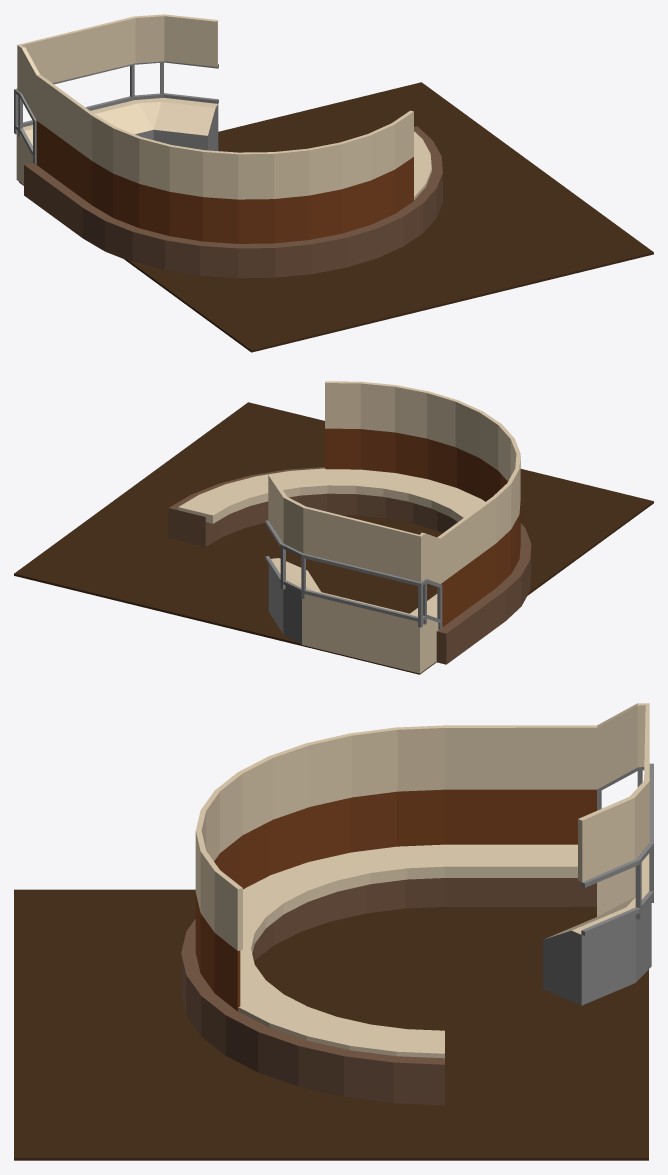
The model's file is foundation.fbx.
The picture shows the model from 3 angles, top to bottom: view 1: azimuth 30°, elevation 25°; view 2: azimuth 150°, elevation 25°; view 3: azimuth 270°, elevation 25°; orthographic projection. The views are drawn at different scales.
Parts seen in each view (by area): view 1: floor, wall, backsplash, counterSkirt, console, countertop, Cube.072; view 2: floor, wall, backsplash, counterSkirt, console, countertop, Cube.072, Cube.080; view 3: floor, wall, counterSkirt, backsplash, countertop, console, Cube.080.
Boxes of the visible parts, x1=… form: floor: x1=19, y1=82, x2=653, y2=352; wall: x1=17, y1=14, x2=413, y2=199; backsplash: x1=36, y1=121, x2=413, y2=243; counterSkirt: x1=24, y1=126, x2=442, y2=278; console: x1=16, y1=98, x2=218, y2=184; countertop: x1=414, y1=131, x2=431, y2=199; Cube.072: x1=23, y1=93, x2=218, y2=127; floor: x1=14, y1=402, x2=653, y2=674; wall: x1=268, y1=381, x2=520, y2=583; backsplash: x1=325, y1=428, x2=520, y2=627; counterSkirt: x1=168, y1=467, x2=531, y2=664; console: x1=268, y1=558, x2=438, y2=673; countertop: x1=178, y1=468, x2=484, y2=617; Cube.072: x1=265, y1=556, x2=417, y2=621; Cube.080: x1=265, y1=520, x2=422, y2=585; floor: x1=14, y1=889, x2=648, y2=1160; wall: x1=195, y1=703, x2=649, y2=950; counterSkirt: x1=181, y1=878, x2=596, y2=1105; backsplash: x1=195, y1=789, x2=596, y2=1011; countertop: x1=238, y1=844, x2=577, y2=1058; console: x1=543, y1=852, x2=651, y2=1005; Cube.080: x1=581, y1=763, x2=653, y2=887.
Bounding box in the file's own units: 1648 × 525 × 1618.
